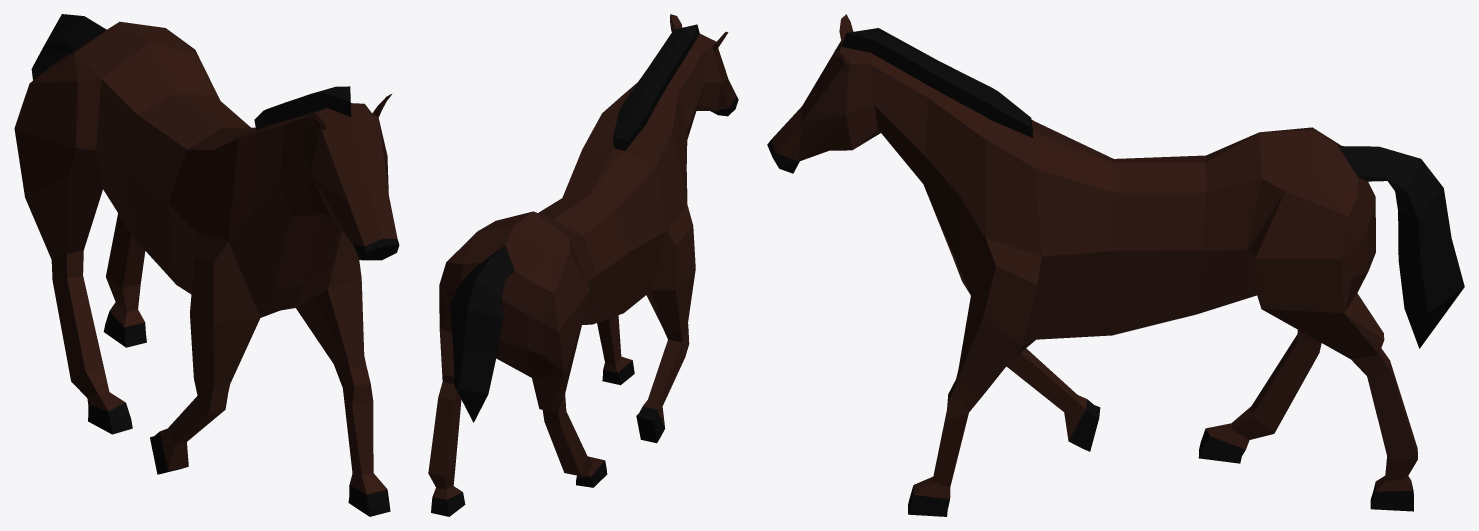
Rendered from Horse_000004.obj.
3 views of the same model, side by side, from view 1: azimuth 30°, elevation 25°; view 2: azimuth 150°, elevation 25°; view 3: azimuth 270°, elevation 25° (orthographic). The views are drawn at different scales.
Visible parts, largest first — view 1: Horse_Cylinder; view 2: Horse_Cylinder; view 3: Horse_Cylinder.
Boxes of the visible parts, left/top/right/bottom form: Horse_Cylinder: left=14, top=14, right=399, bottom=516; Horse_Cylinder: left=428, top=14, right=738, bottom=516; Horse_Cylinder: left=767, top=14, right=1464, bottom=516.
Size of the model in its own units: 2.56 by 6.69 by 9.36.
